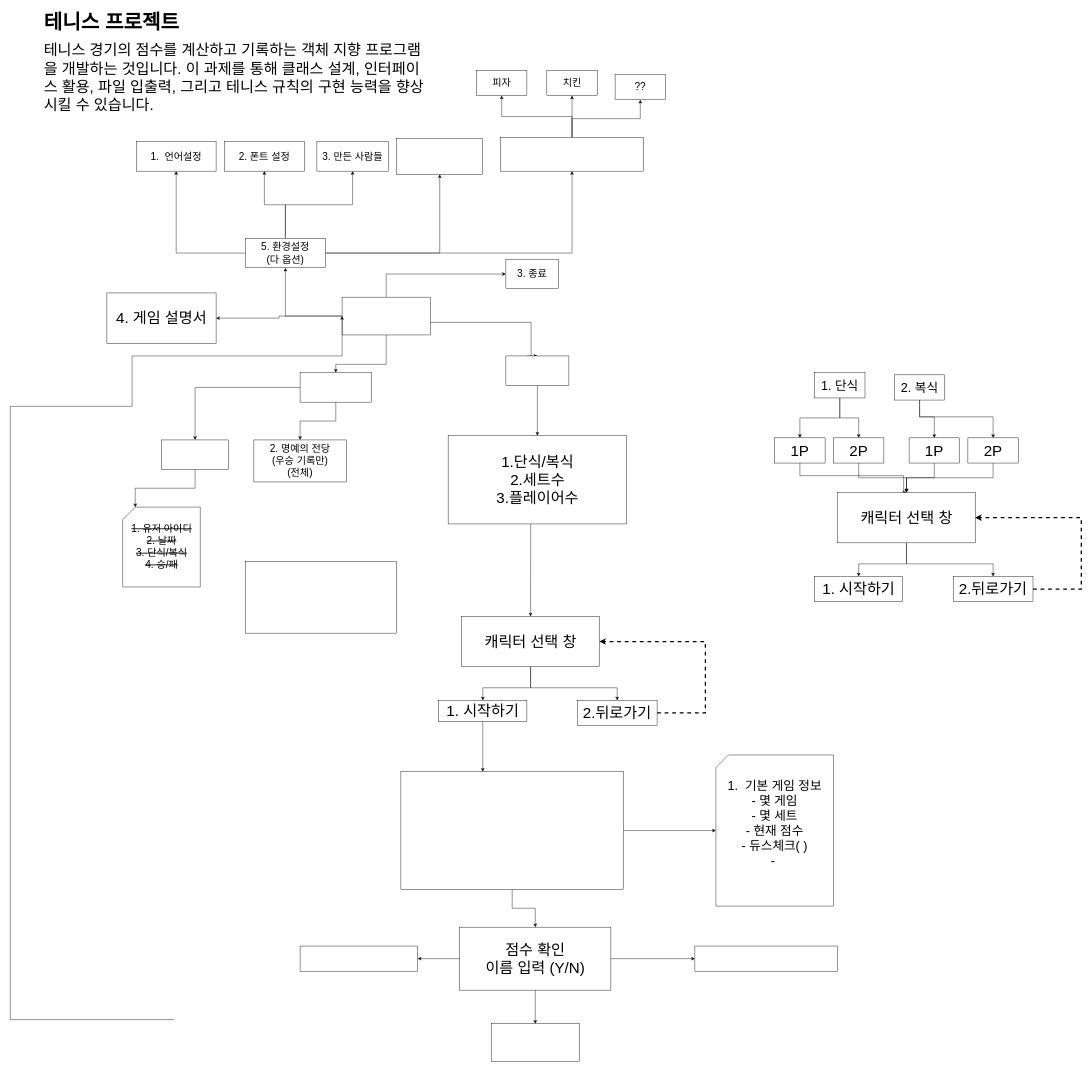
The diagram is 1092 pixels wide and 1069 high, and some of its shapes have lost their labels. Here are the shapes that lost their labels. From the top down, the box of each, then its label:
(396, 138, 483, 174): 4. 디스코드
(500, 137, 643, 171): 5. 개발자 사주기 버튼
(342, 297, 430, 335): Main Menu
(300, 372, 371, 402): 2. 기록
(505, 356, 569, 385): 1. 게임 시작
(161, 440, 229, 469): 1.최근기록 (나)
(245, 561, 397, 633): 힘: +3 체력: 정신력: 필살기:
(400, 771, 623, 889): 1. 스킬 a.서브 b.포핸드 c.백핸드 d.발리 (필살기) e.하프발리 f.스매시 g.드롭샷 h. 로브 2. 게임 정보 (자동 출력)
(300, 946, 418, 971): 메인메뉴
(694, 946, 838, 971): 다시하기
(491, 1023, 579, 1062): 종료
